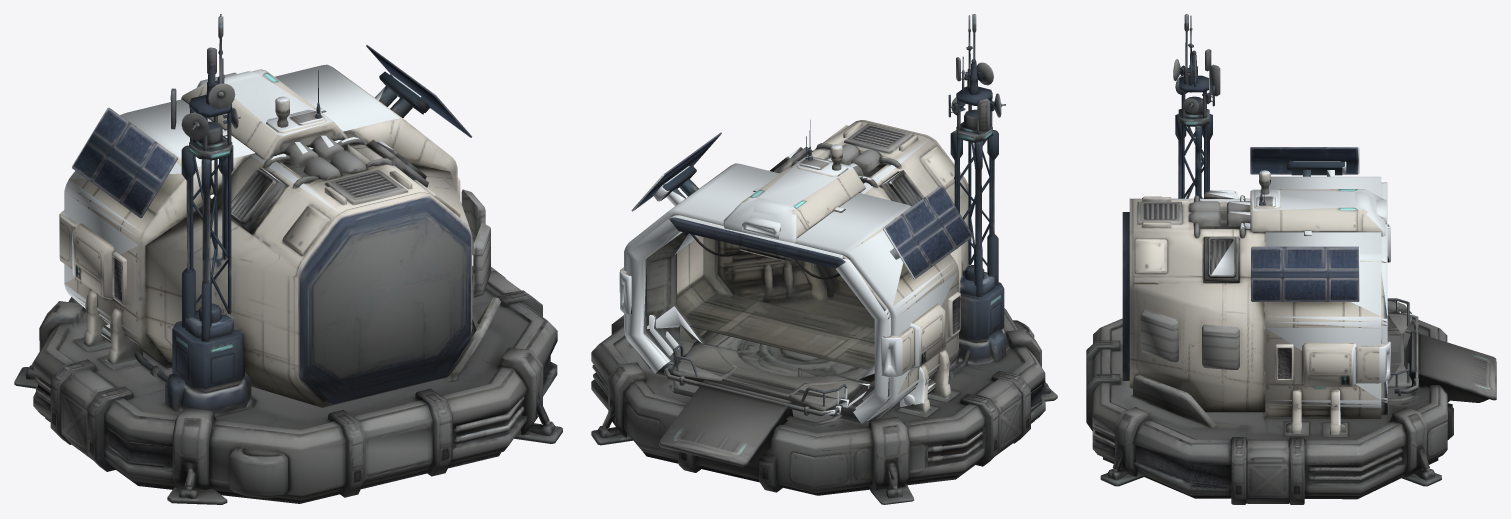
The model's file is OrbitalDock.prefab.glb.
3 views of the same model, side by side, from view 1: azimuth 30°, elevation 25°; view 2: azimuth 150°, elevation 25°; view 3: azimuth 270°, elevation 25° (orthographic). The views are drawn at different scales.
Visible parts, largest first — view 1: tripo_node_2ed32a8b-1540-46d6-94b1-e462435decd8; view 2: tripo_node_2ed32a8b-1540-46d6-94b1-e462435decd8; view 3: tripo_node_2ed32a8b-1540-46d6-94b1-e462435decd8.
Part boxes in pixels (box(x1,y1,x2,y2)): tripo_node_2ed32a8b-1540-46d6-94b1-e462435decd8: box(14, 14, 562, 504); tripo_node_2ed32a8b-1540-46d6-94b1-e462435decd8: box(591, 14, 1057, 504); tripo_node_2ed32a8b-1540-46d6-94b1-e462435decd8: box(1086, 14, 1496, 504).
Size of the model in its own units: 0.9907 by 0.9702 by 0.9995.
2 materials, 1 textured.
